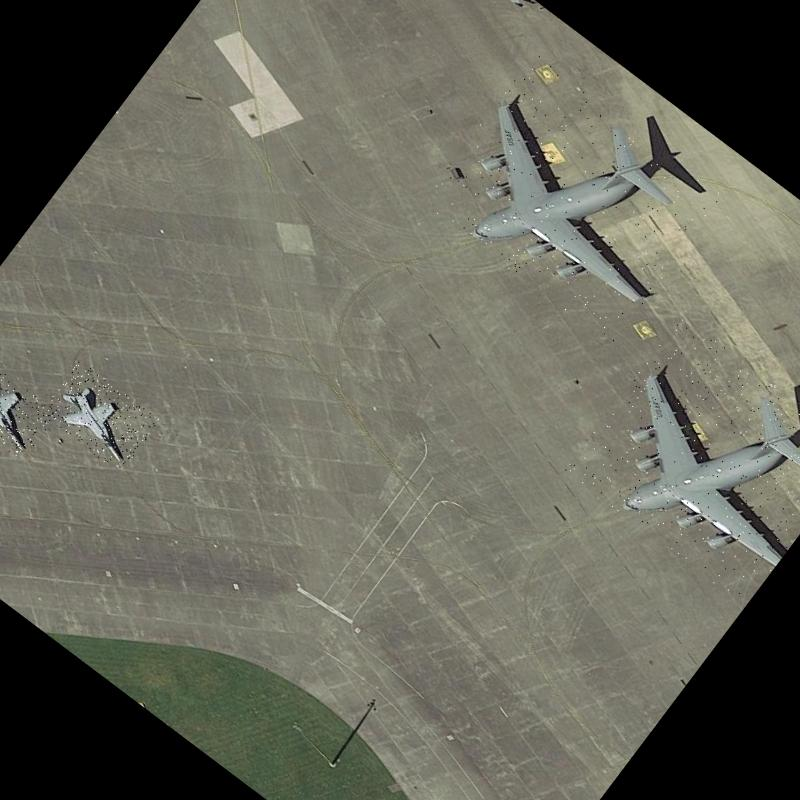A16: (39, 360, 161, 475), (0, 354, 57, 461)
A3: (419, 52, 724, 348), (564, 315, 800, 606)
